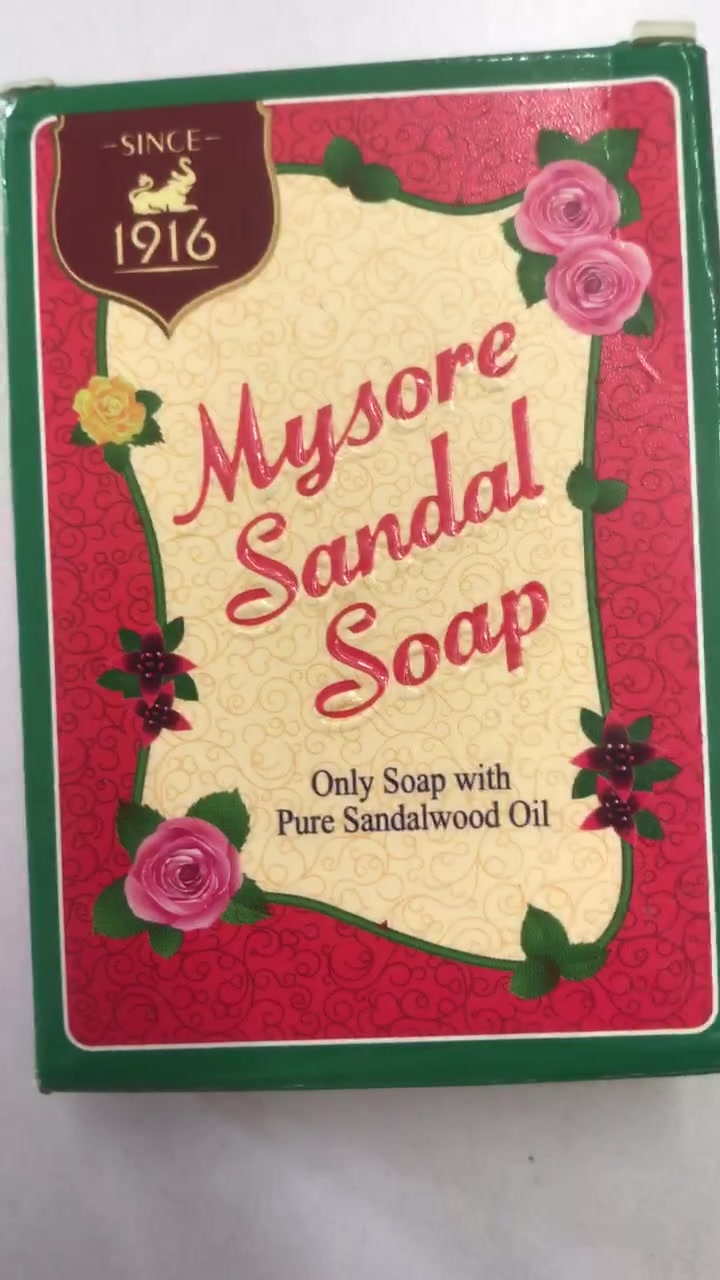mysore sandal soap: (9, 84, 703, 1062)
